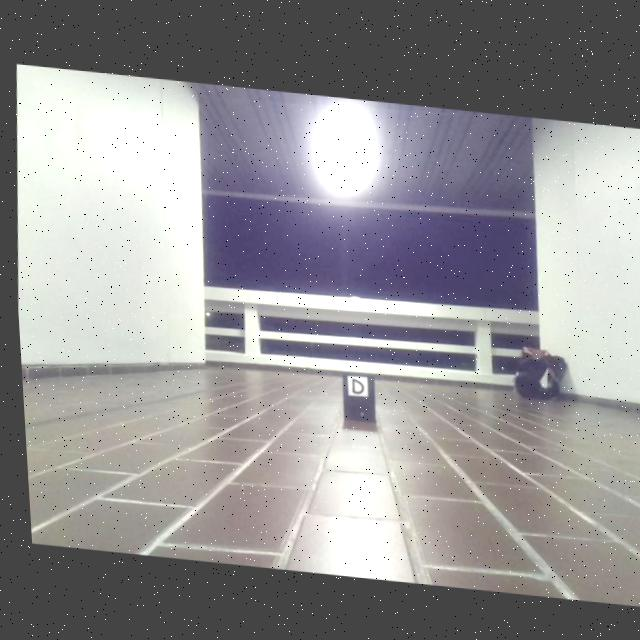D: (345, 373, 361, 392)
